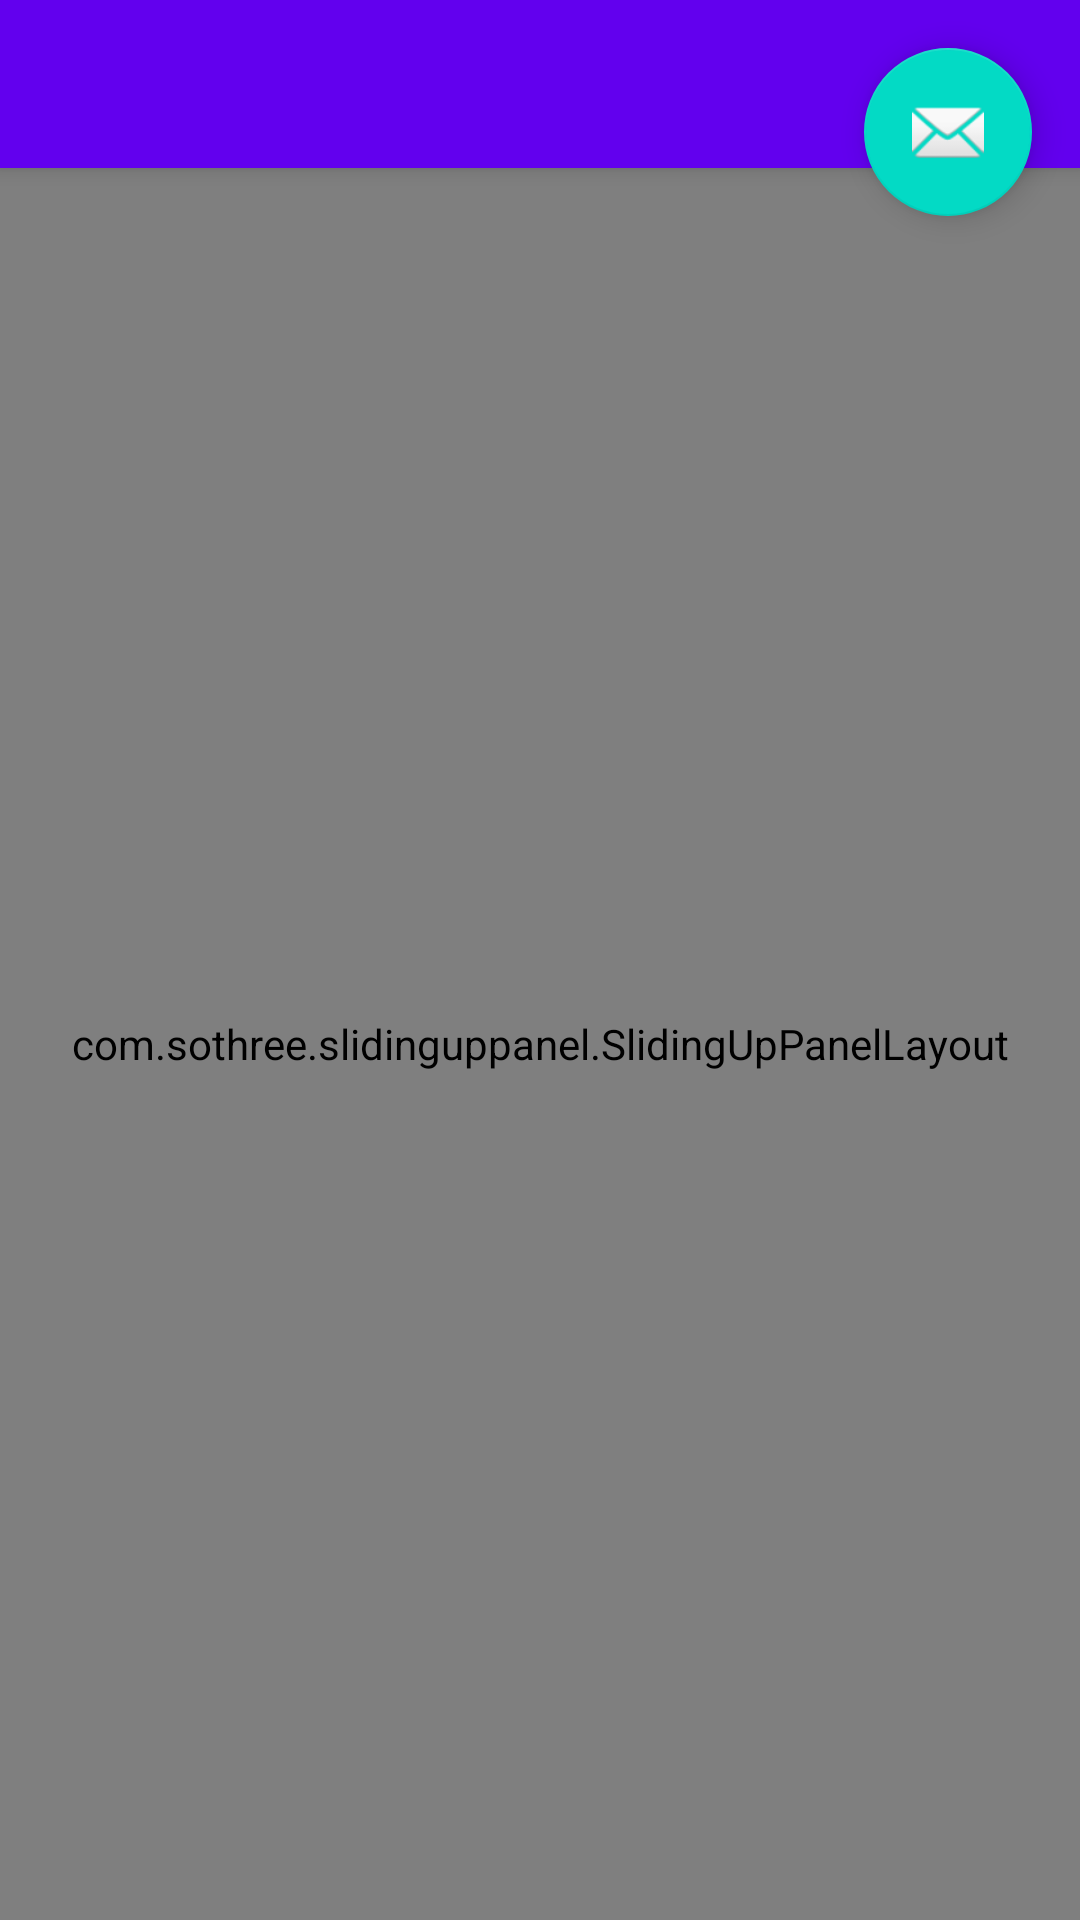

Icons on this 1080x1920 Android screen, each with the point to tap as (x,y):
email: (948,132)
